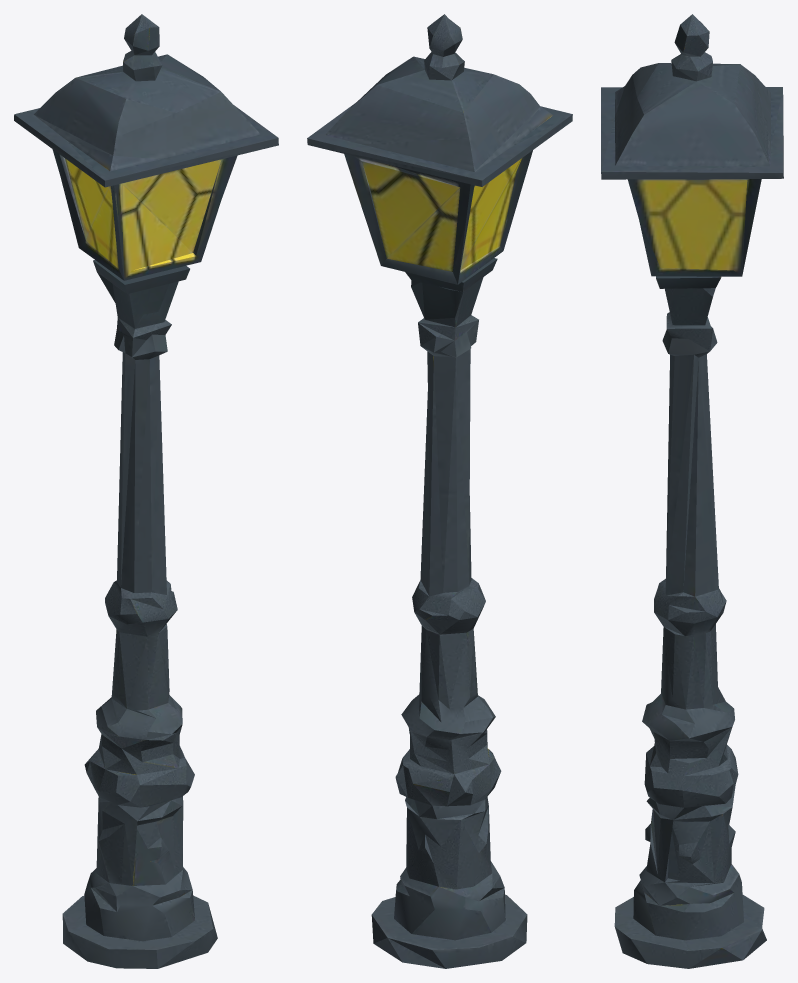
The model's file is street_lamp.glb.
3 views of the same model, side by side, from view 1: azimuth 30°, elevation 25°; view 2: azimuth 150°, elevation 25°; view 3: azimuth 270°, elevation 25° (orthographic).
Size of the model in its own units: 0.3778 by 1.9 by 0.3409.
1 material, 1 textured.
